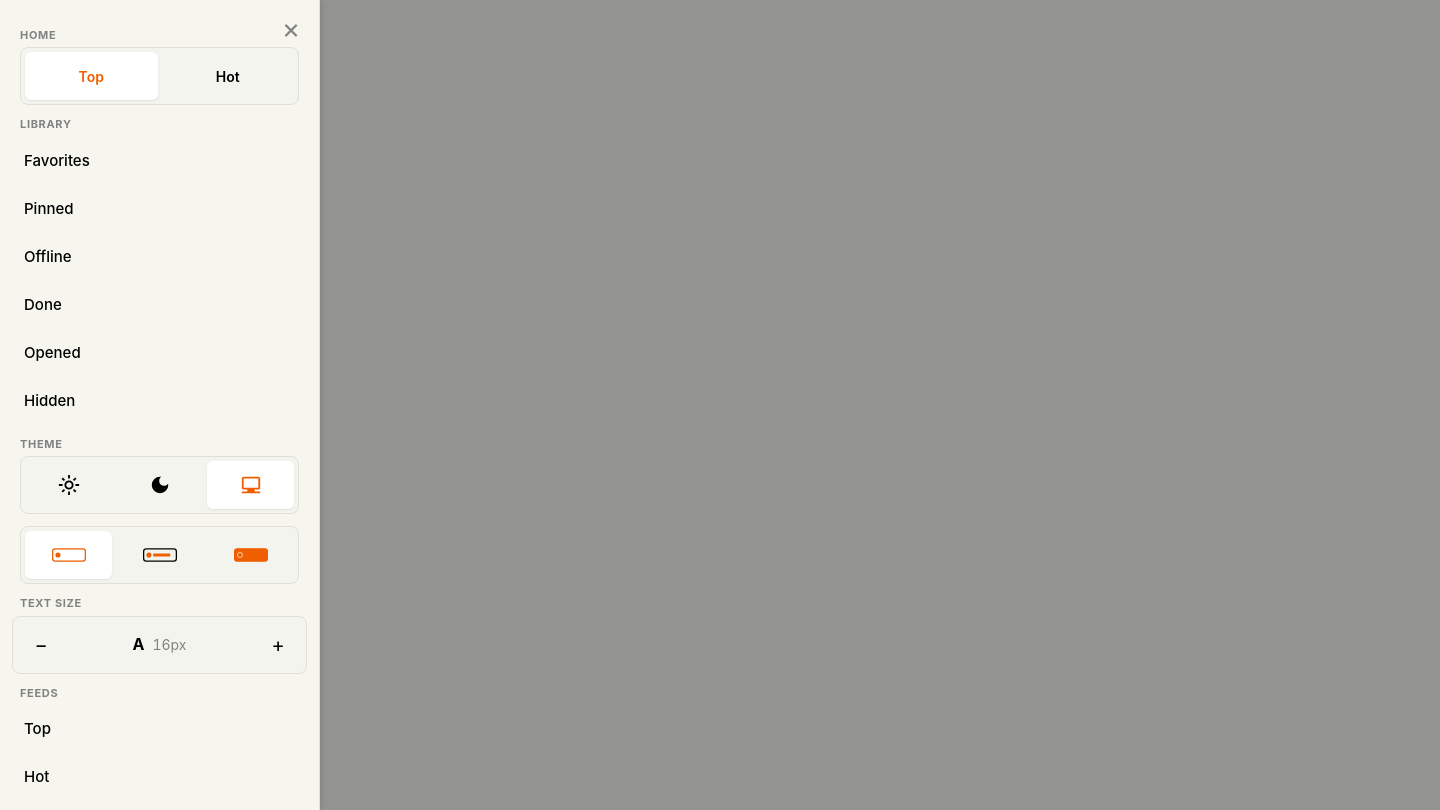
<AppDrawer> › switches the theme when a radio is clicked
Later steps or results of the test are not shown.
Click the radio button named "Duo". click: (160, 555)
box: [116,531,203,579]
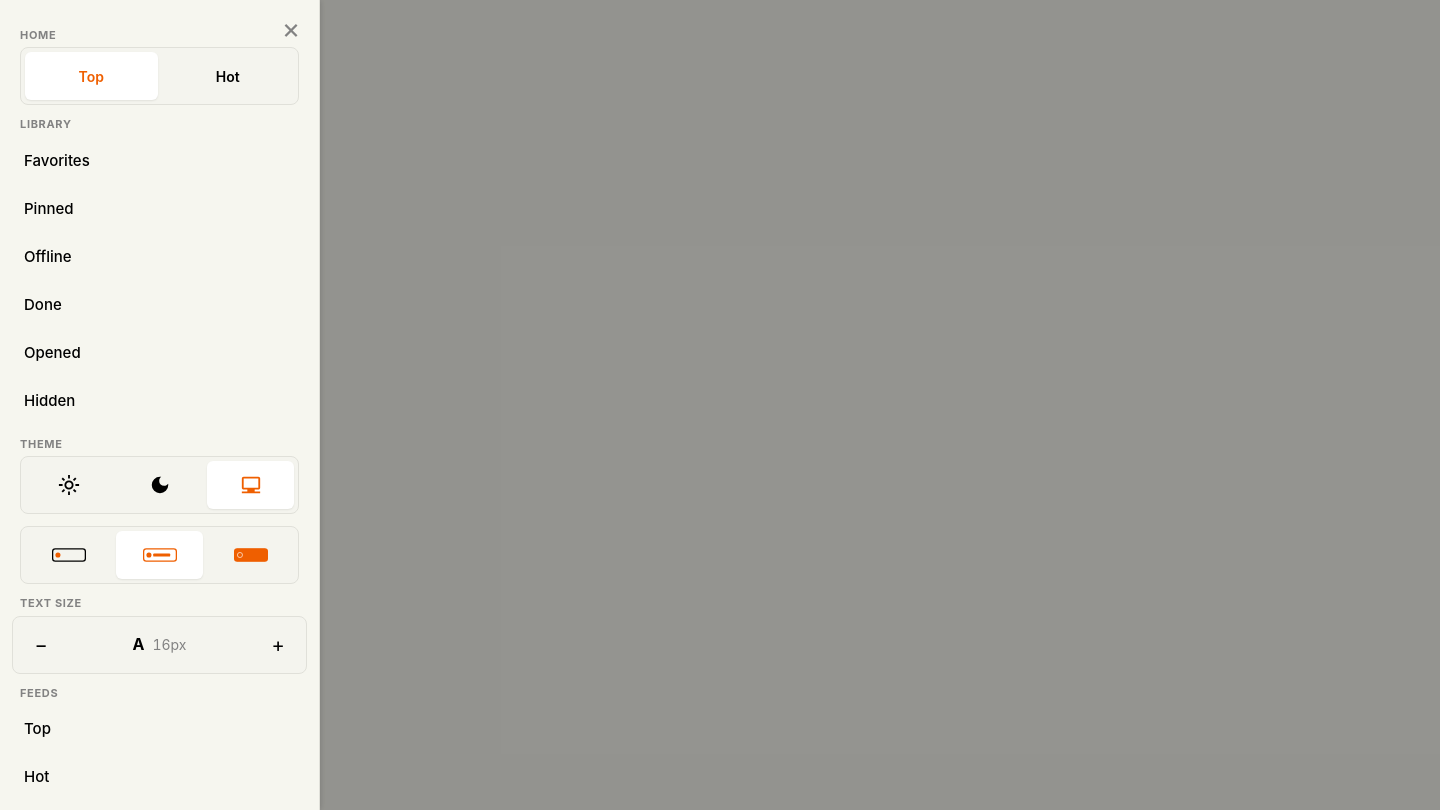
Check: the radio button named "Duo" is checked, box [116,531,203,579]
